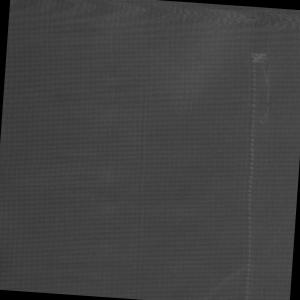Damage: (193, 45, 300, 300)
